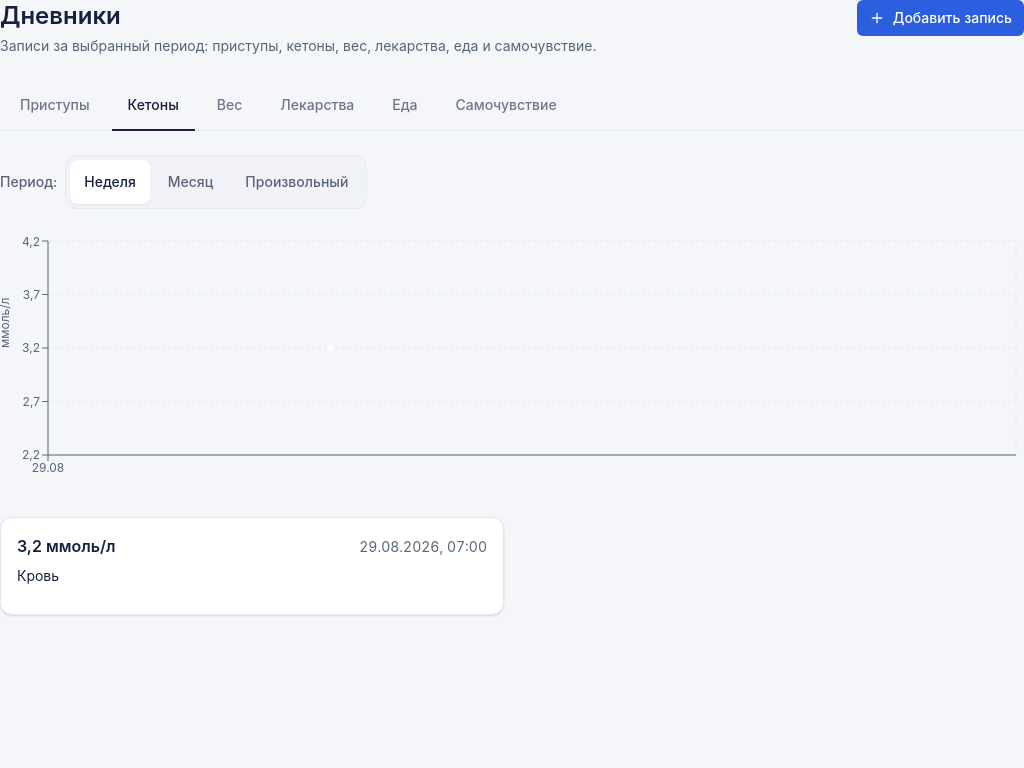
Test case: DiaryPage › форма не занимает экран, пока её не открыли
Click the button "Добавить запись" at (940, 18), box x1=857 y1=0 x2=1023 y2=36
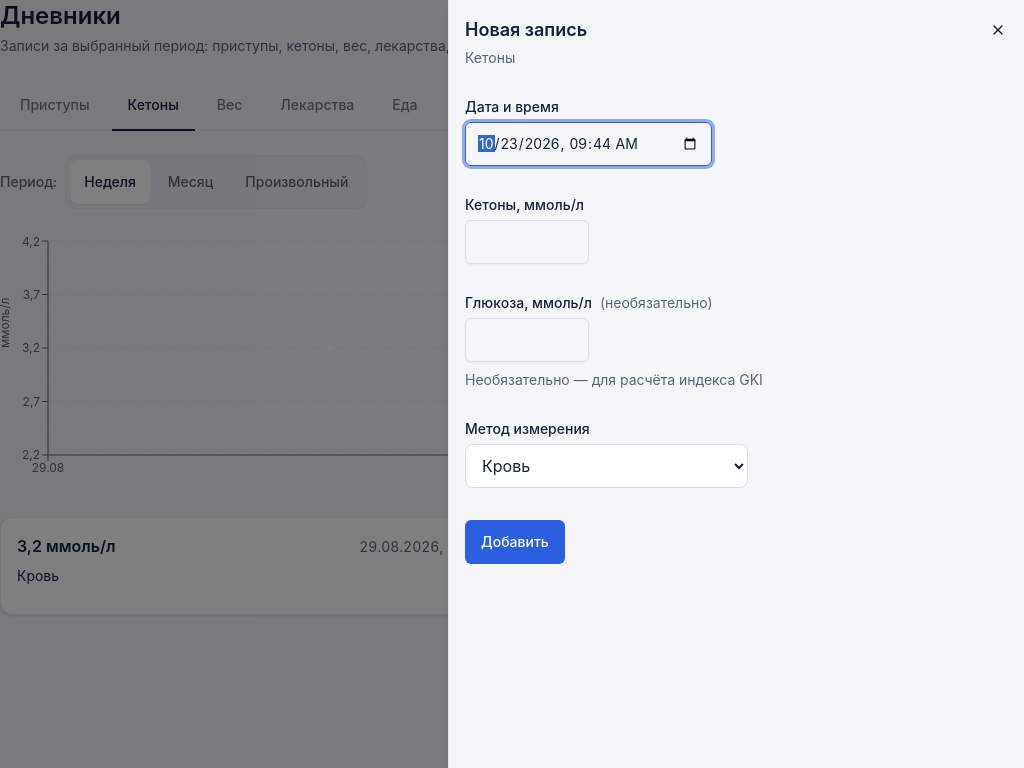
Expected: the dialog "Новая запись" is shown, x1=448 y1=0 x2=1023 y2=767
